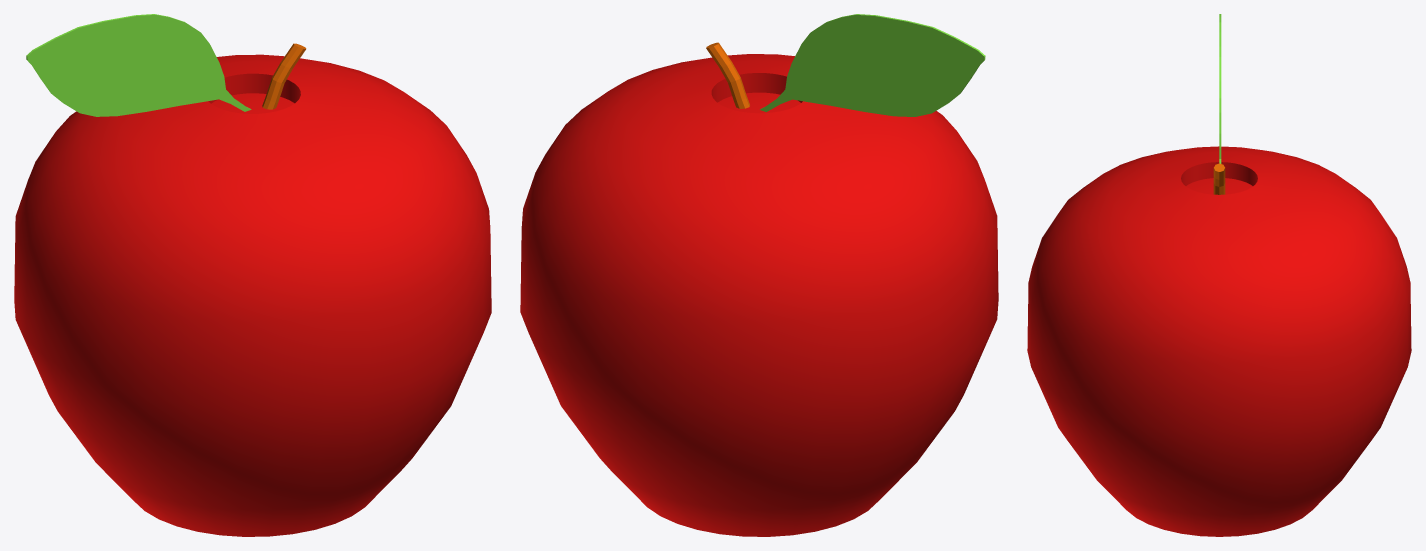
Rendered from apple.fbx.
3 renders of one model, left to right at view 1: azimuth 30°, elevation 25°; view 2: azimuth 150°, elevation 25°; view 3: azimuth 270°, elevation 25°, orthographic. The views are drawn at different scales.
Parts seen in each view (by area): view 1: Apple; view 2: Apple; view 3: Apple.
Boxes of the visible parts, x1=… form: Apple: x1=14, y1=14, x2=491, y2=536; Apple: x1=520, y1=14, x2=998, y2=536; Apple: x1=1027, y1=14, x2=1411, y2=536.
Bounding box in the file's own units: 103 × 117 × 97.75.
